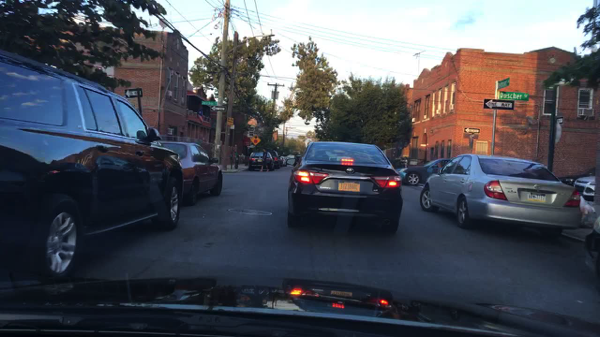car: (0, 49, 185, 275), (419, 153, 582, 237), (285, 141, 402, 233), (158, 141, 224, 208), (403, 157, 453, 187), (583, 215, 599, 281), (557, 168, 596, 184), (573, 176, 596, 200), (248, 151, 274, 171), (268, 151, 283, 169), (395, 167, 407, 178), (278, 153, 286, 167), (283, 156, 289, 166)
person: (257, 148, 272, 173), (234, 151, 241, 169)
traffic sign: (499, 91, 528, 103), (482, 99, 513, 110), (125, 89, 143, 97), (497, 78, 509, 89), (555, 124, 561, 144), (462, 128, 479, 134), (250, 135, 259, 146), (211, 106, 227, 112), (201, 100, 217, 106), (227, 117, 234, 125), (557, 116, 563, 124), (468, 134, 474, 138)
